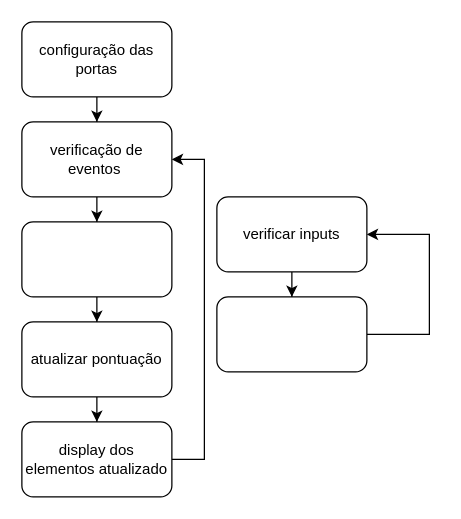
This 461x519 diagram has some shape labels left out. Each missing label, with the box of its shape:
ativar eventos conforme inputs: (216, 296, 367, 372)
movimentação de elementos de jogo: (21, 221, 172, 297)
